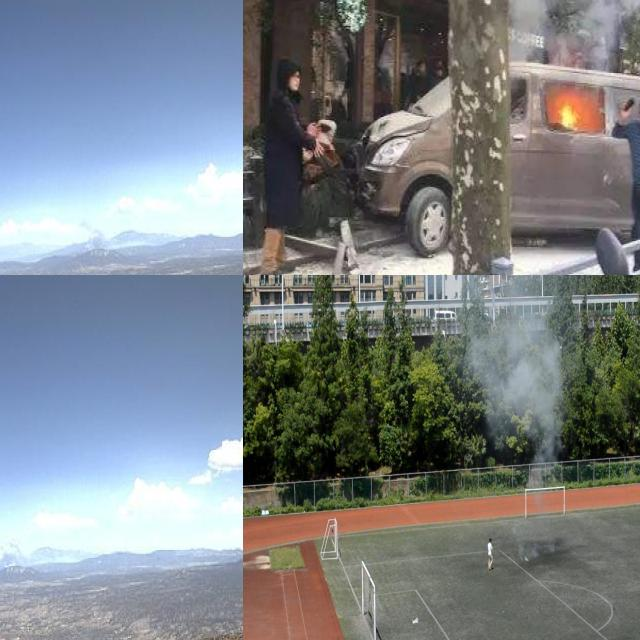fire: (551, 92, 590, 134)
smoke: (462, 320, 564, 496), (74, 214, 114, 257), (514, 535, 555, 564), (0, 546, 37, 576)
